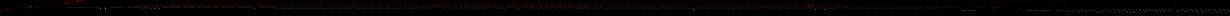Blue cone: (63, 2, 71, 4), (19, 7, 25, 8)
Yellow cone: (803, 4, 826, 7), (991, 7, 998, 9)
